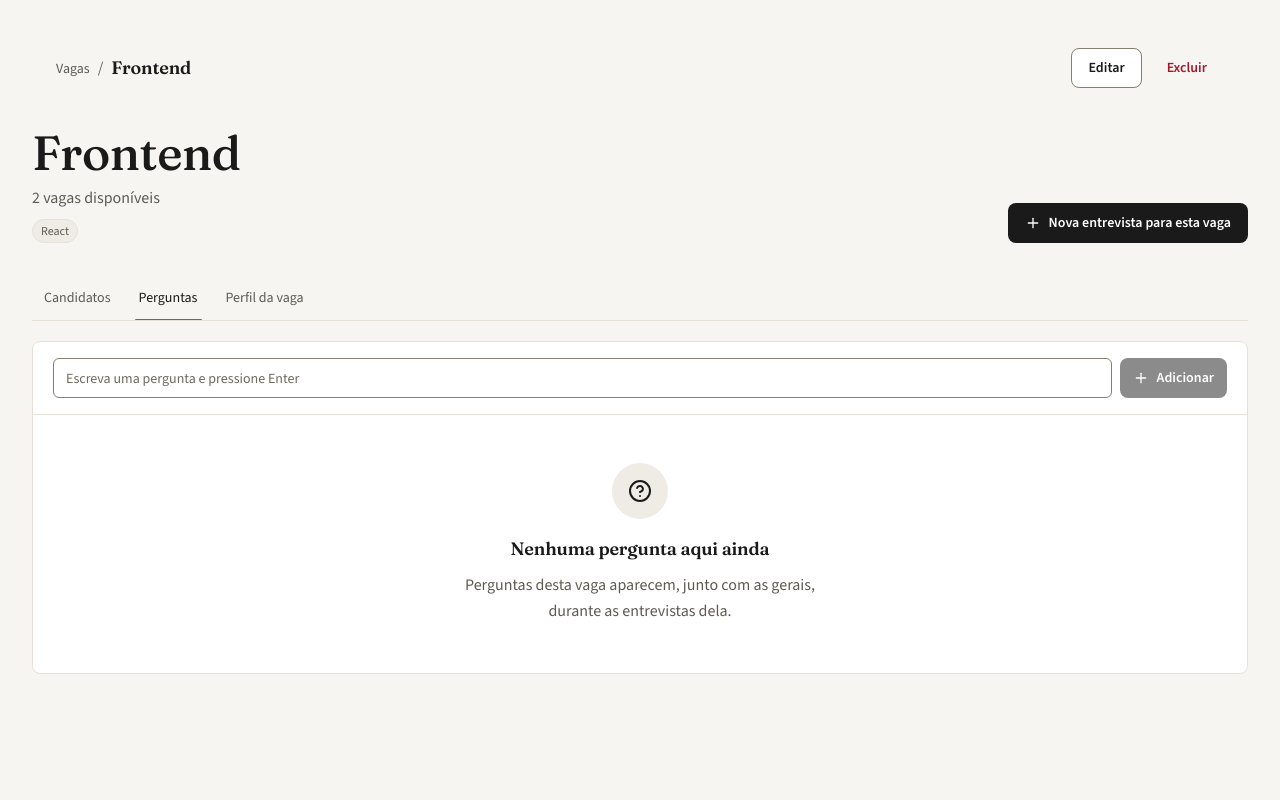
Test: a aba fica na URL e Perguntas lista as da vaga
Step 1. Click the tab "Perfil da vaga" → (265, 298), box [214, 275, 316, 320]
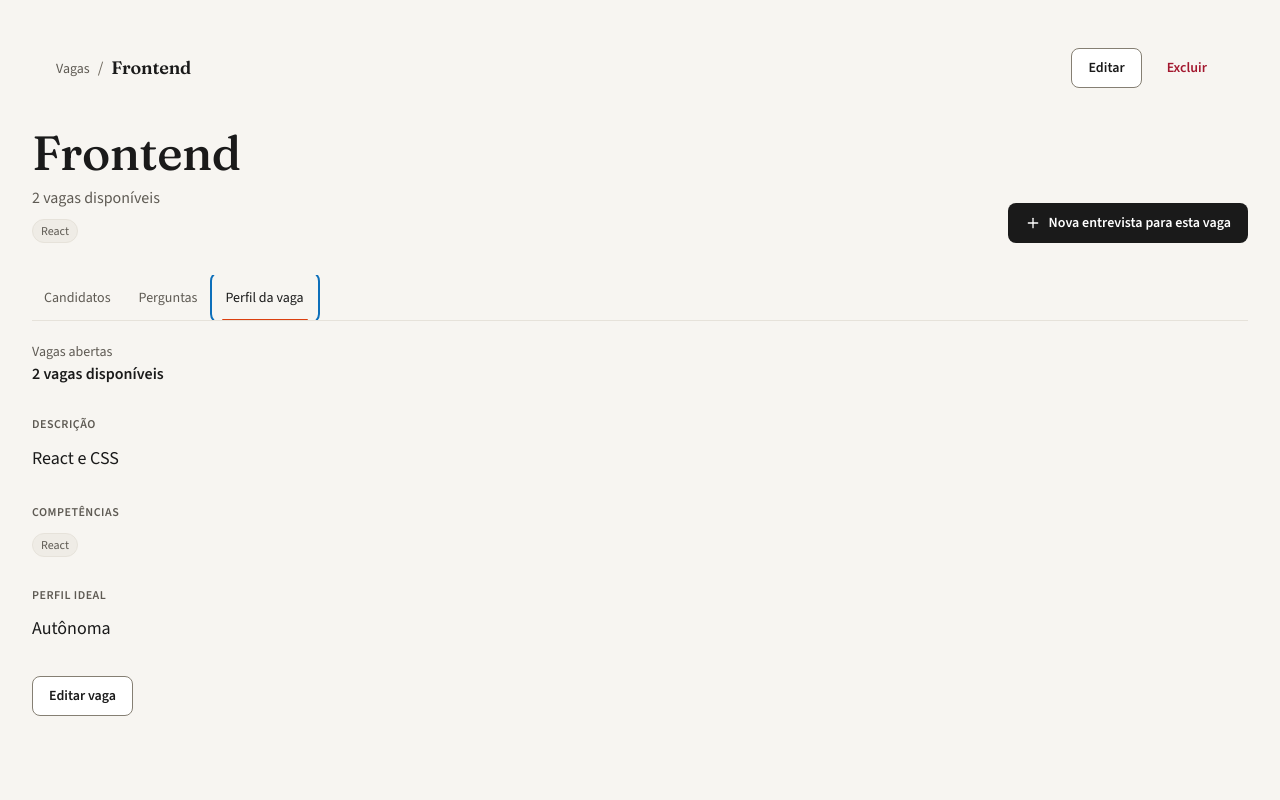
Now the text "Autônoma" is shown, box [32, 616, 111, 640]
